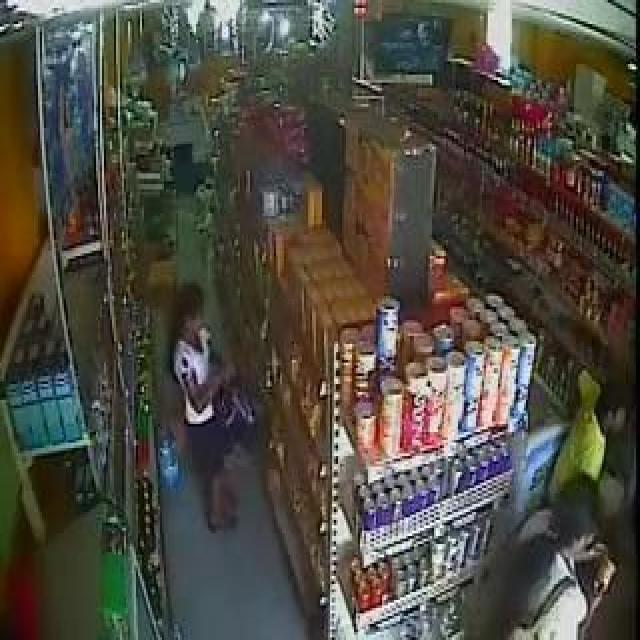Shoplifting: (151, 255, 290, 571)
